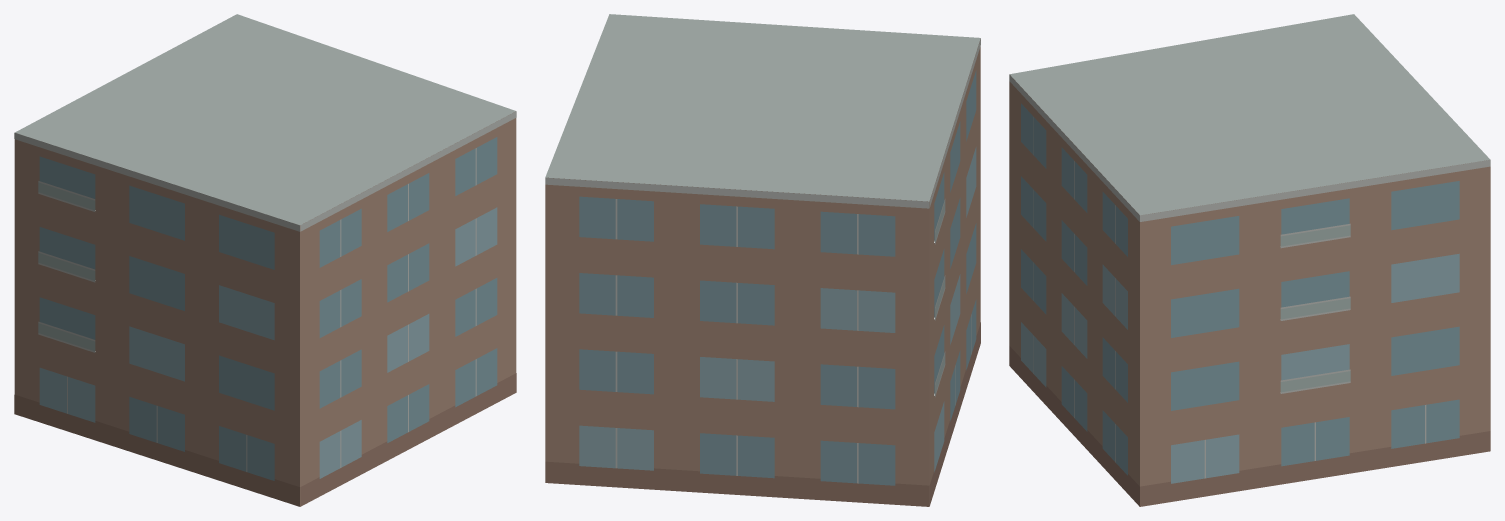
The model's file is survey-upis-32886668.glb.
3 renders of one model, left to right at view 1: azimuth 30°, elevation 25°; view 2: azimuth 150°, elevation 25°; view 3: azimuth 270°, elevation 25°, orthographic. The views are drawn at different scales.
Parts seen in each view (by area): view 1: survey-upis-32886668.tmp; view 2: survey-upis-32886668.tmp; view 3: survey-upis-32886668.tmp.
Part boxes in pixels (x1,y1,x2,y2): survey-upis-32886668.tmp: [14, 14, 516, 506]; survey-upis-32886668.tmp: [545, 14, 980, 506]; survey-upis-32886668.tmp: [1009, 14, 1490, 506].
Bounding box in the file's own units: 15.56 × 10.5 × 15.72.
